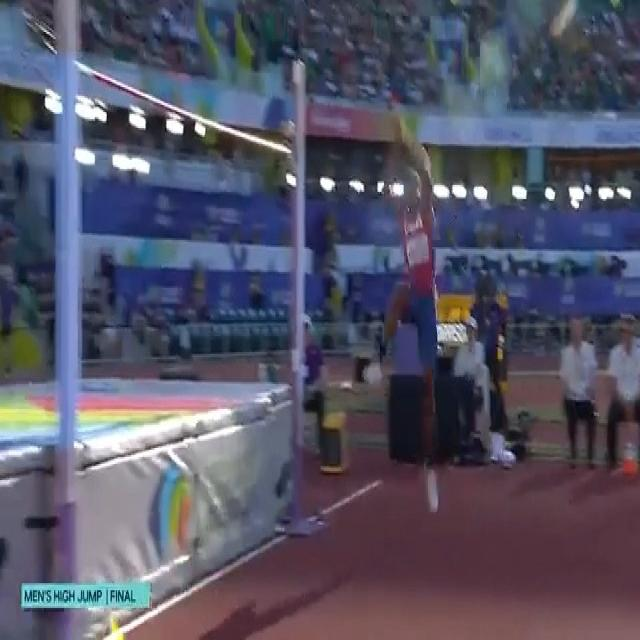land: (366, 116, 437, 516)
